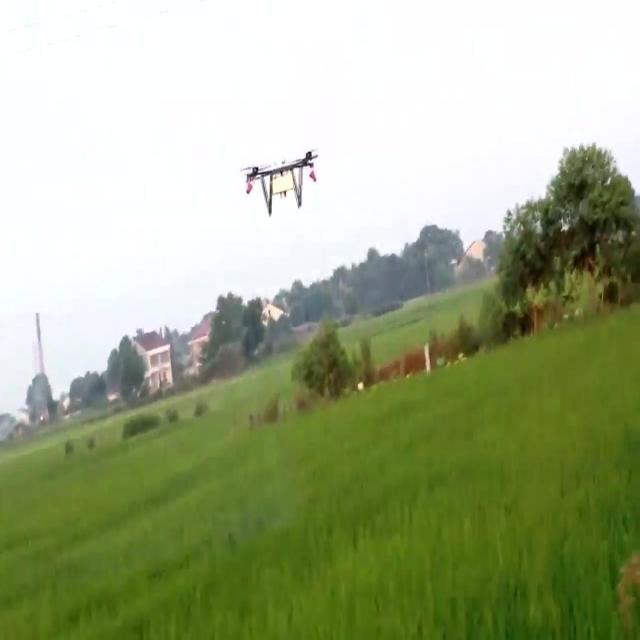UAV: (240, 148, 318, 218)
